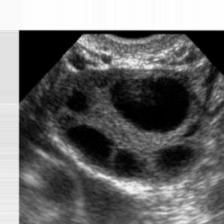pcos: (56, 56, 208, 194)
